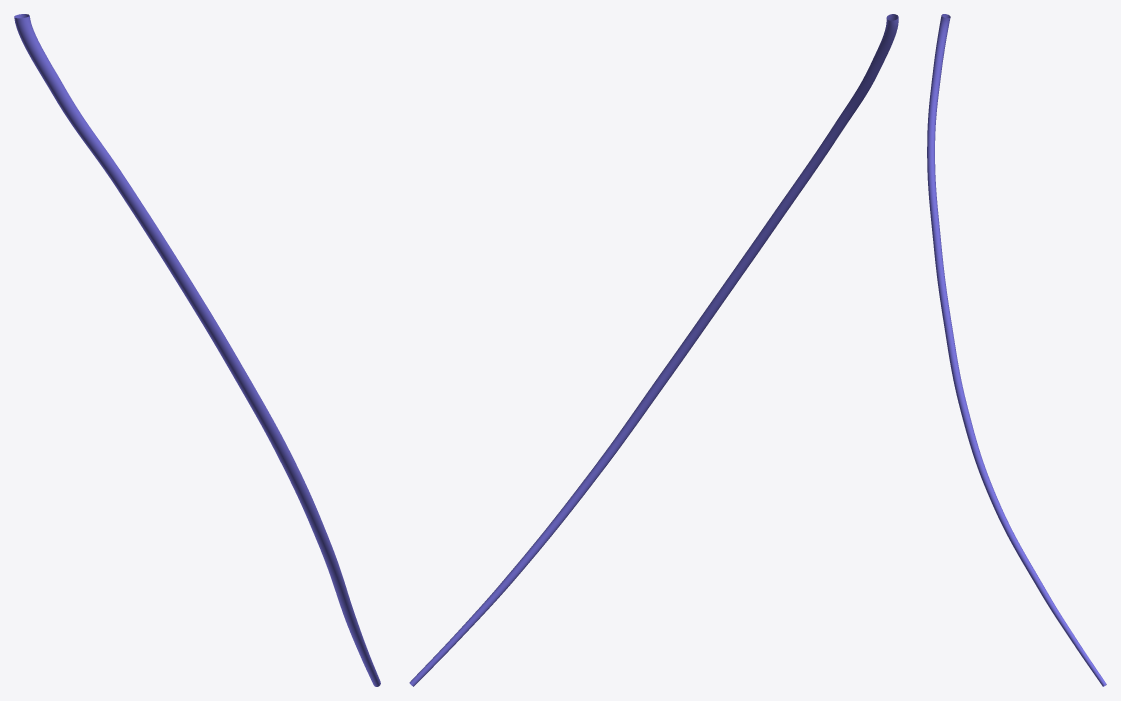
Rendered from Musculophrenic_veins.l_BezierCurve.331.glb.
3 views of the same model, side by side, from view 1: azimuth 30°, elevation 25°; view 2: azimuth 150°, elevation 25°; view 3: azimuth 270°, elevation 25° (orthographic). The views are drawn at different scales.
Visible parts, largest first — view 1: Musculophrenic_veins.l_BezierCurve.331; view 2: Musculophrenic_veins.l_BezierCurve.331; view 3: Musculophrenic_veins.l_BezierCurve.331.
Part boxes in pixels (bbox=[...]): Musculophrenic_veins.l_BezierCurve.331: bbox=[14, 14, 380, 686]; Musculophrenic_veins.l_BezierCurve.331: bbox=[409, 14, 898, 686]; Musculophrenic_veins.l_BezierCurve.331: bbox=[927, 14, 1106, 686].
Size of the model in its own units: 0.0952 by 0.1621 by 0.0499.
